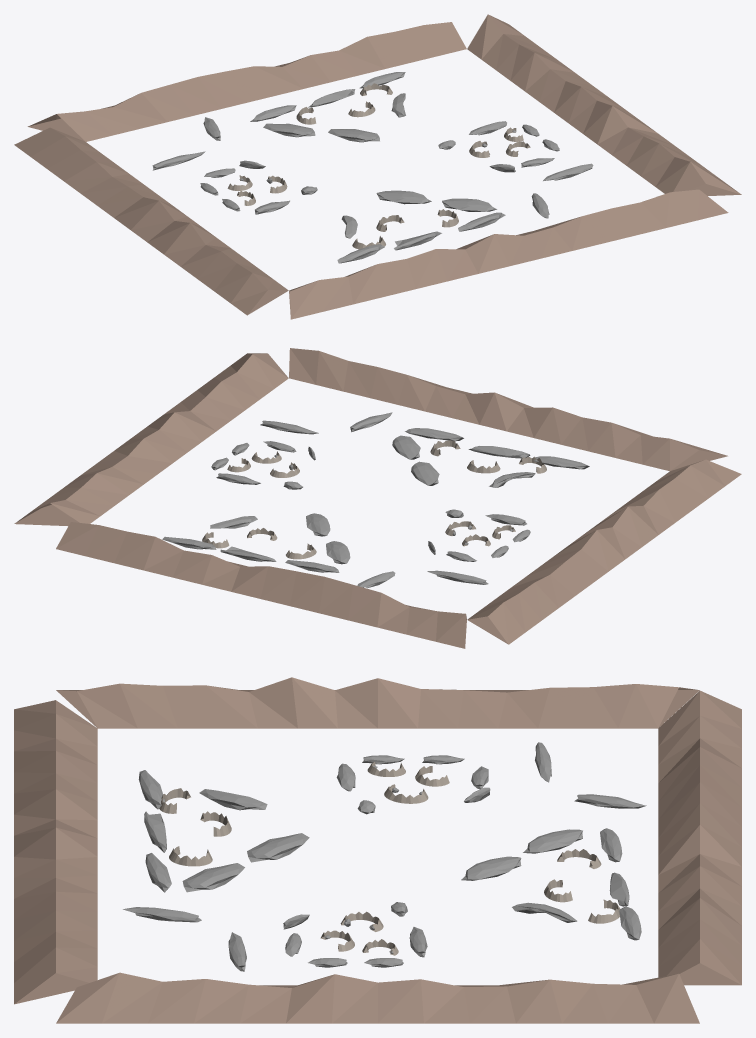
File: map.glb
The picture shows the model from 3 angles, top to bottom: view 1: azimuth 30°, elevation 25°; view 2: azimuth 150°, elevation 25°; view 3: azimuth 270°, elevation 25°; orthographic projection. The views are drawn at different scales.
Visible parts, largest first — view 1: Mountains, Rock.044, Rock.045, Rock.035, Rock.034; view 2: Mountains, Rock.044, Rock.045; view 3: Mountains, Rock.044, Rock.045, Rock.034, Rock.035, Rock.043, Rock.033, Rock.046, Rock.040, Rock.042, Rock.041, Rock.036.
Part boxes in pixels (<box>): Mountains: <box>14,14,741,319</box>; Rock.044: <box>442,198,496,211</box>; Rock.045: <box>376,190,431,204</box>; Rock.035: <box>263,123,315,137</box>; Rock.034: <box>328,129,379,142</box>; Mountains: <box>14,348,741,648</box>; Rock.044: <box>392,435,420,459</box>; Rock.045: <box>411,461,439,485</box>; Mountains: <box>14,677,741,1023</box>; Rock.044: <box>182,863,244,892</box>; Rock.045: <box>247,833,309,862</box>; Rock.034: <box>461,856,521,880</box>; Rock.035: <box>523,829,582,853</box>; Rock.043: <box>199,789,267,810</box>; Rock.033: <box>123,907,201,922</box>; Rock.046: <box>574,794,646,808</box>; Rock.040: <box>144,811,166,852</box>; Rock.042: <box>145,853,171,892</box>; Rock.041: <box>138,770,164,809</box>; Rock.036: <box>512,902,577,922</box>.
Bounding box in the file's own units: 231 × 12.89 × 213.
